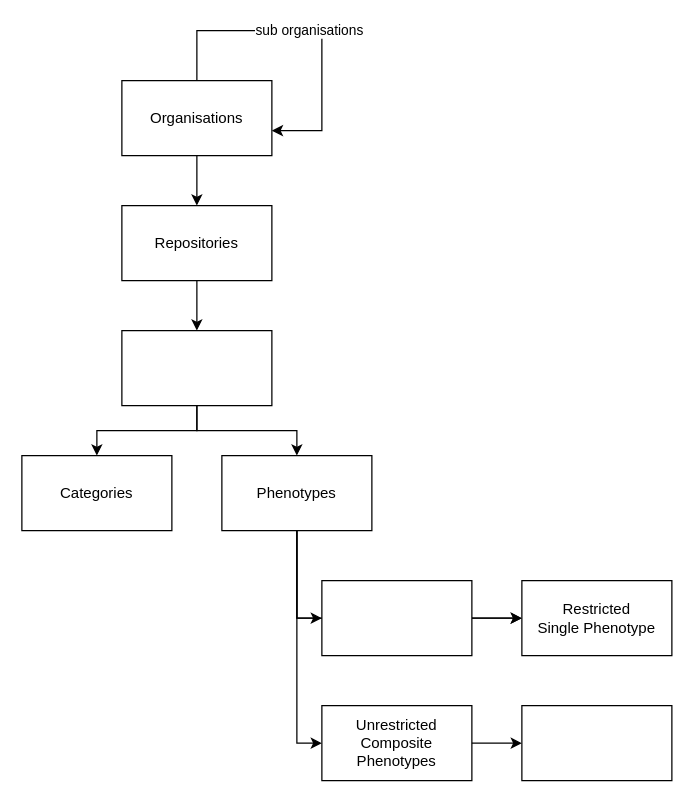
Image size: 694x803. Some labels were removed from this diagram. Each missing label, with the centre of its shape:
"Entities" belongs at point (196, 367).
"Restricted Composite Phenotype" belongs at point (596, 742).
"Unrestricted Single Phenotypes" belongs at point (396, 617).
